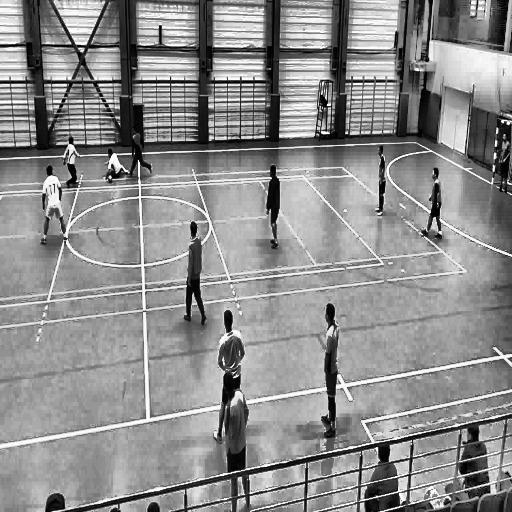ball: (108, 173, 114, 183)
player: (212, 306, 244, 447), (222, 371, 253, 512), (319, 300, 347, 442), (182, 219, 209, 334), (36, 165, 70, 247), (420, 166, 444, 244), (128, 124, 154, 181), (266, 161, 282, 253), (373, 142, 388, 223), (62, 137, 82, 191), (103, 148, 129, 182), (497, 128, 509, 198)
